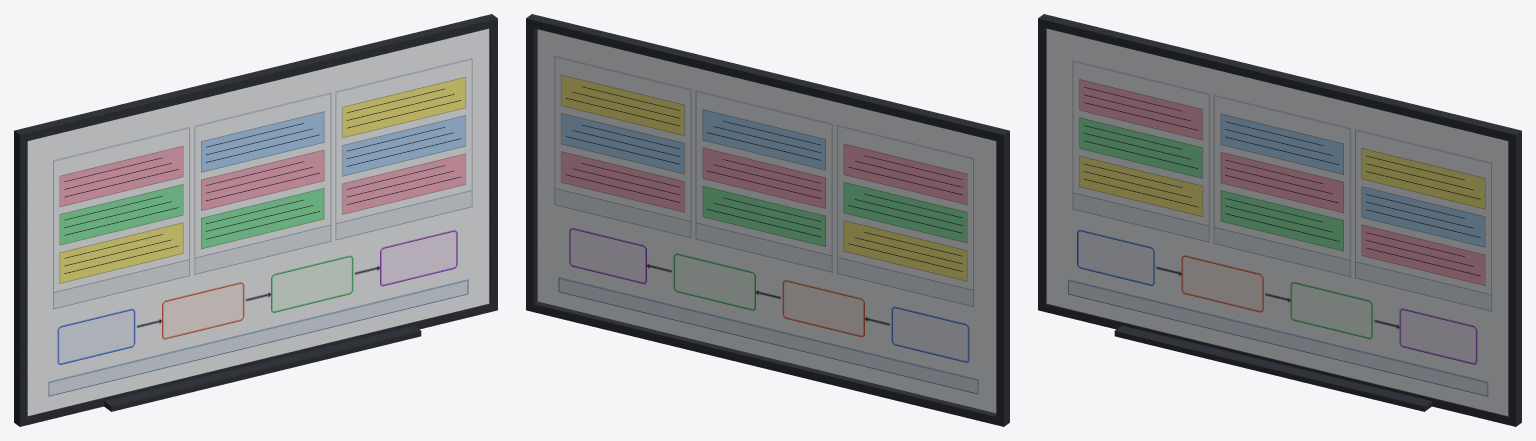
Rendered from whiteboard_tech.glb.
3 renders of one model, left to right at view 1: azimuth 30°, elevation 25°; view 2: azimuth 150°, elevation 25°; view 3: azimuth 330°, elevation 25°, orthographic.
Parts seen in each view (by area): view 1: BoardCanvas, Frame; view 2: BoardCanvas, Frame; view 3: BoardCanvas, Frame.
Part boxes in pixels (bbox=[...]): BoardCanvas: bbox=[27, 28, 489, 415]; Frame: bbox=[14, 14, 497, 426]; BoardCanvas: bbox=[537, 29, 996, 413]; Frame: bbox=[526, 14, 1009, 426]; BoardCanvas: bbox=[1046, 28, 1508, 415]; Frame: bbox=[1038, 14, 1521, 426].
Size of the model in its own units: 1.85 by 1.08 by 0.09.
Materials: 2 (2 with a texture image).
